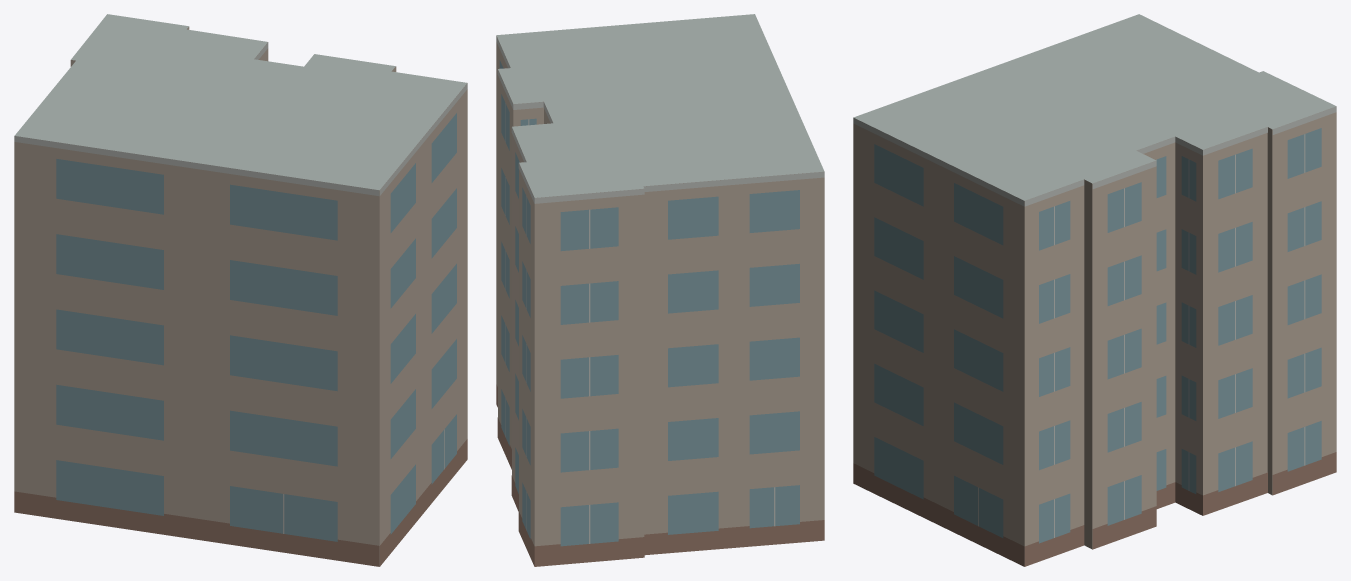
Rendered from survey-upis-32663680.glb.
3 views of the same model, side by side, from view 1: azimuth 30°, elevation 25°; view 2: azimuth 150°, elevation 25°; view 3: azimuth 270°, elevation 25° (orthographic). The views are drawn at different scales.
Visible parts, largest first — view 1: survey-upis-32663680.tmp; view 2: survey-upis-32663680.tmp; view 3: survey-upis-32663680.tmp.
Boxes of the visible parts, x1=… form: survey-upis-32663680.tmp: x1=14, y1=14, x2=467, y2=566; survey-upis-32663680.tmp: x1=496, y1=14, x2=824, y2=566; survey-upis-32663680.tmp: x1=853, y1=14, x2=1336, y2=566.
Bounding box in the file's own units: 16.71 × 15.25 × 18.26.
